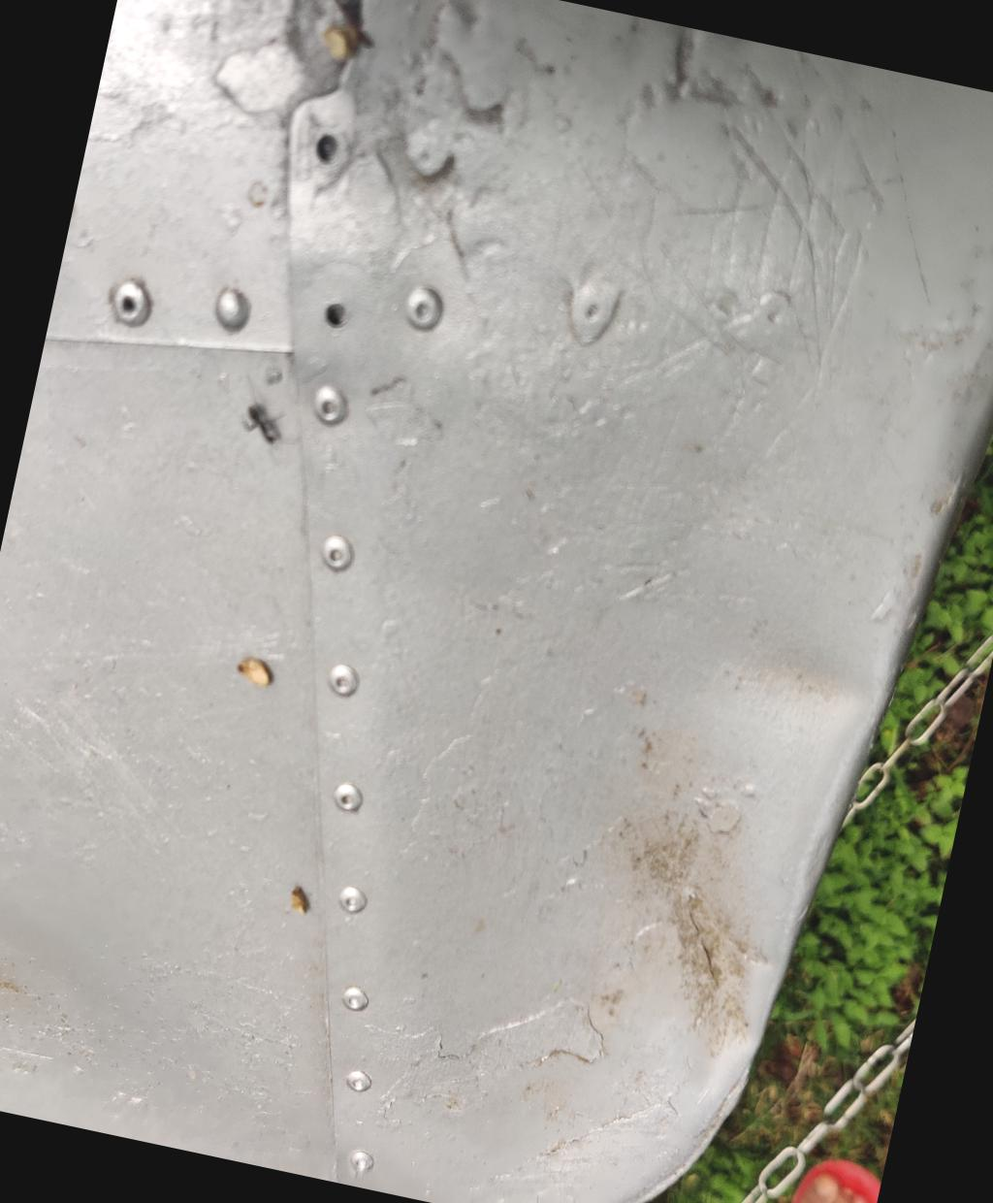dent: (666, 572, 920, 832)
